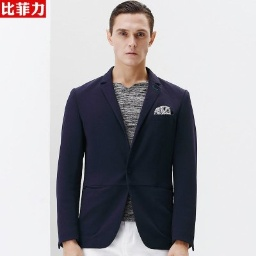face: (106, 1, 158, 68)
